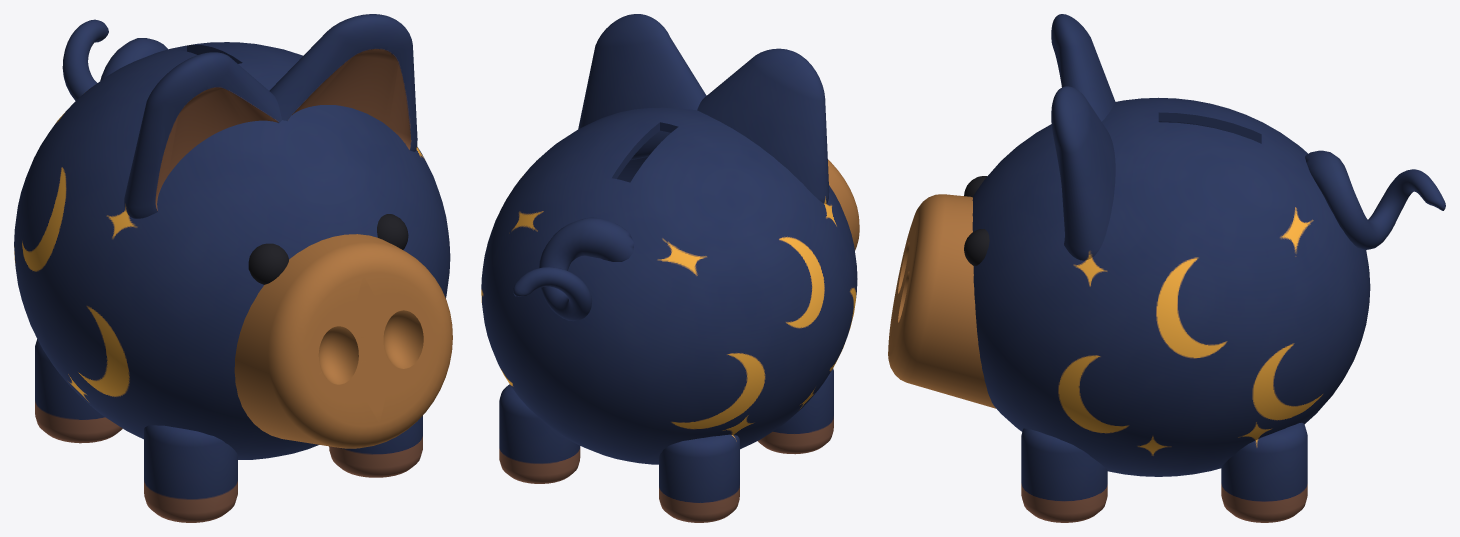
File: nightlight-og-v1-complete.fbx
3 renders of one model, left to right at view 1: azimuth 30°, elevation 25°; view 2: azimuth 150°, elevation 25°; view 3: azimuth 270°, elevation 25°, orthographic. The views are drawn at different scales.
Visible parts, largest first — view 1: Body, Snout, Ears, Legs, Tail, EyePreview; view 2: Body, Ears, Legs, Tail, Snout; view 3: Body, Snout, Legs, Ears, Tail, EyePreview.
Boxes of the visible parts, x1=… form: Body: x1=14, y1=42, x2=450, y2=459; Snout: x1=234, y1=234, x2=452, y2=448; Ears: x1=124, y1=14, x2=417, y2=218; Legs: x1=35, y1=339, x2=422, y2=522; Tail: x1=62, y1=19, x2=167, y2=100; EyePreview: x1=248, y1=214, x2=408, y2=284; Body: x1=481, y1=107, x2=857, y2=464; Ears: x1=578, y1=14, x2=829, y2=203; Legs: x1=499, y1=368, x2=833, y2=522; Tail: x1=513, y1=217, x2=634, y2=321; Snout: x1=828, y1=159, x2=859, y2=250; Body: x1=972, y1=97, x2=1370, y2=476; Snout: x1=888, y1=194, x2=996, y2=408; Legs: x1=1021, y1=422, x2=1307, y2=522; Ears: x1=1051, y1=14, x2=1115, y2=260; Tail: x1=1305, y1=150, x2=1445, y2=249; EyePreview: x1=964, y1=176, x2=989, y2=265.
Size of the model in its own units: 1200 by 1397 by 1708.
3 materials, 2 textured.
